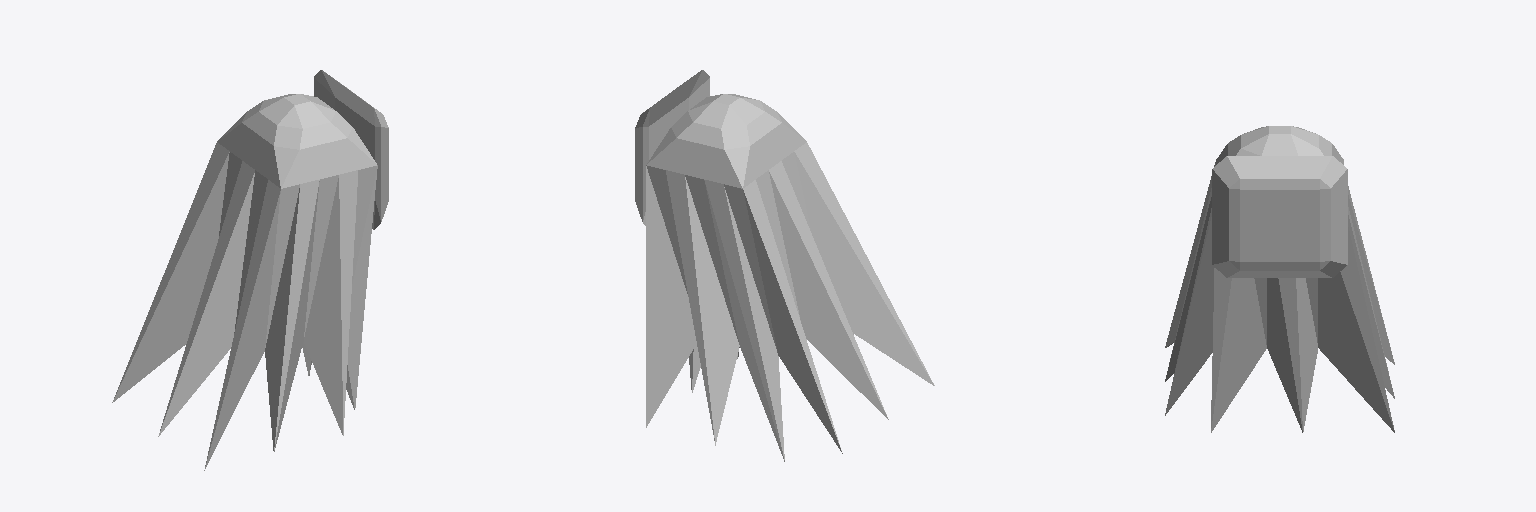
File: foap.obj
The picture shows the model from 3 angles: view 1: azimuth 30°, elevation 25°; view 2: azimuth 150°, elevation 25°; view 3: azimuth 270°, elevation 25°; orthographic projection.
Parts seen in each view (by area): view 1: Cube.001_Cube.002; view 2: Cube.001_Cube.002; view 3: Cube.001_Cube.002.
Part boxes in pixels (bbox=[...]): Cube.001_Cube.002: bbox=[112, 70, 388, 470]; Cube.001_Cube.002: bbox=[635, 70, 934, 461]; Cube.001_Cube.002: bbox=[1165, 126, 1394, 432].
Size of the model in its own units: 13.77 by 17.58 by 12.56.